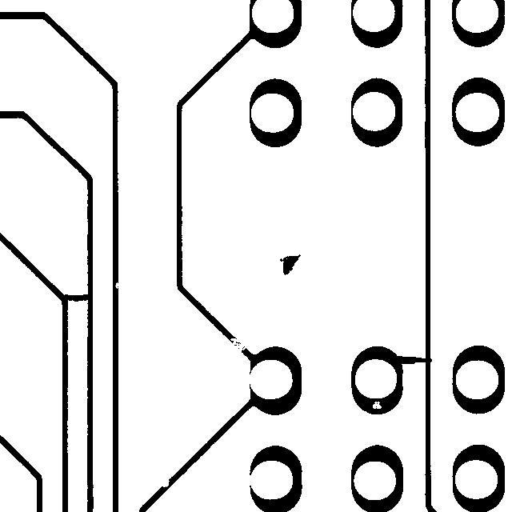copper: (272, 246, 308, 282)
mousebite: (154, 472, 177, 494), (107, 274, 126, 296)
open: (218, 330, 261, 362)
pin-hole: (365, 394, 389, 416)
short: (382, 346, 439, 371), (54, 286, 97, 311)
